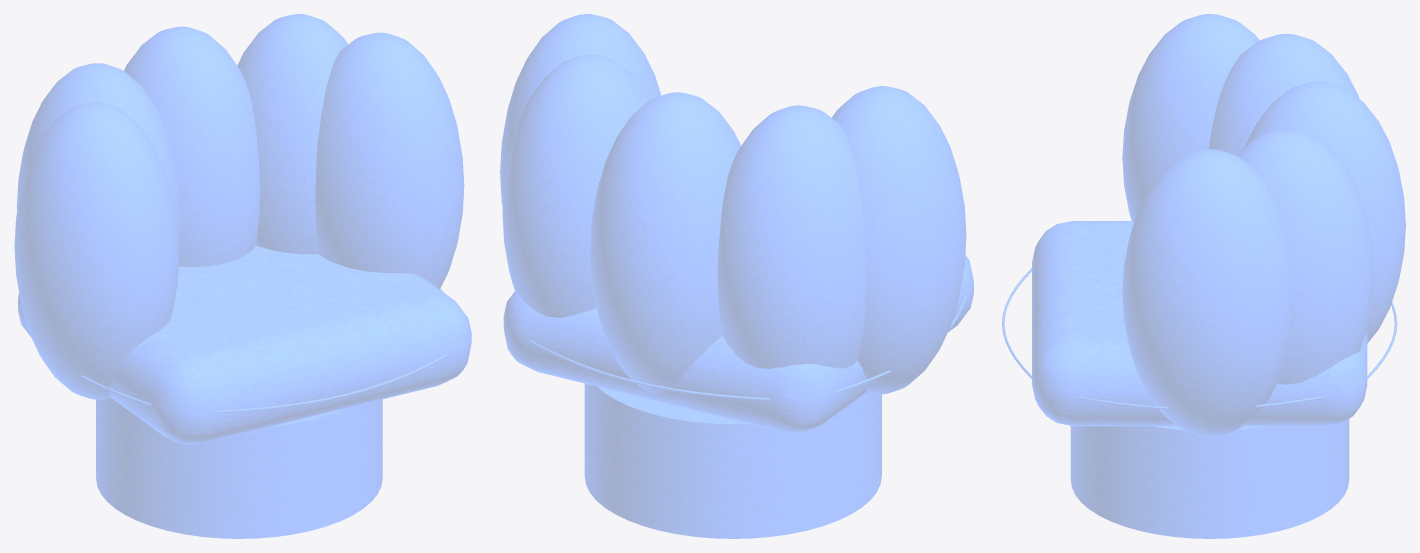
File: ref04_12.glb
The picture shows the model from 3 angles, left to right: view 1: azimuth 30°, elevation 25°; view 2: azimuth 150°, elevation 25°; view 3: azimuth 270°, elevation 25°; orthographic projection. The views are drawn at different scales.
Parts seen in each view (by area): view 1: ref04_12; view 2: ref04_12; view 3: ref04_12.
Part boxes in pixels (x1,y1,x2,y2): ref04_12: [14, 14, 471, 538]; ref04_12: [500, 14, 973, 538]; ref04_12: [1002, 14, 1405, 538].
Size of the model in its own units: 0.92 by 0.845 by 0.7833.
Materials: 1 (1 with a texture image).
